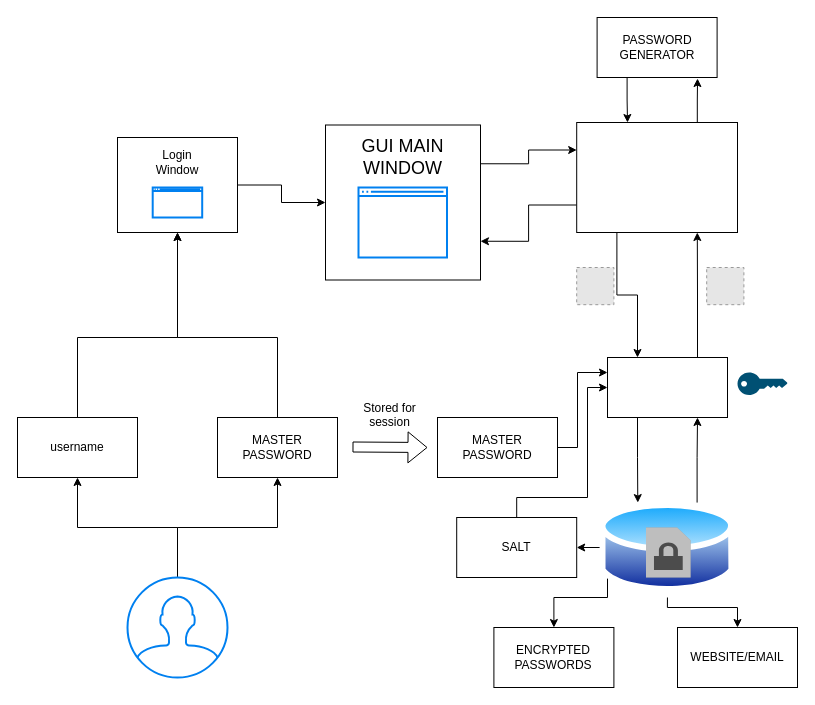
This 815x705 diagram has some shape labels left out. Grey dashed boxes stand in for pictures. The shapes that lost their labels are listed below. From the top down, each one's centre as x and y in pixels, then its label:
[657,177]: Password & Credential Store/Retrival
[667,387]: KEY GENERATION METHOD
